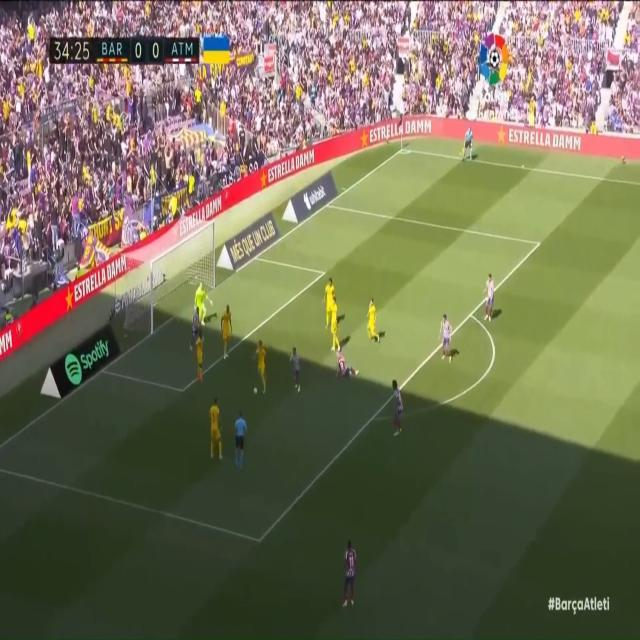ball: (252, 385, 260, 399)
goalkeeper: (192, 277, 211, 330)
player: (334, 530, 359, 619), (206, 390, 224, 465), (388, 367, 405, 445), (317, 270, 339, 328), (363, 289, 385, 344), (252, 336, 271, 396), (329, 294, 346, 354), (437, 304, 453, 366), (331, 349, 362, 381), (288, 340, 304, 400), (481, 265, 495, 330), (219, 302, 234, 361), (188, 298, 201, 358), (195, 328, 206, 386)
referee: (230, 409, 251, 467), (460, 124, 477, 168)
